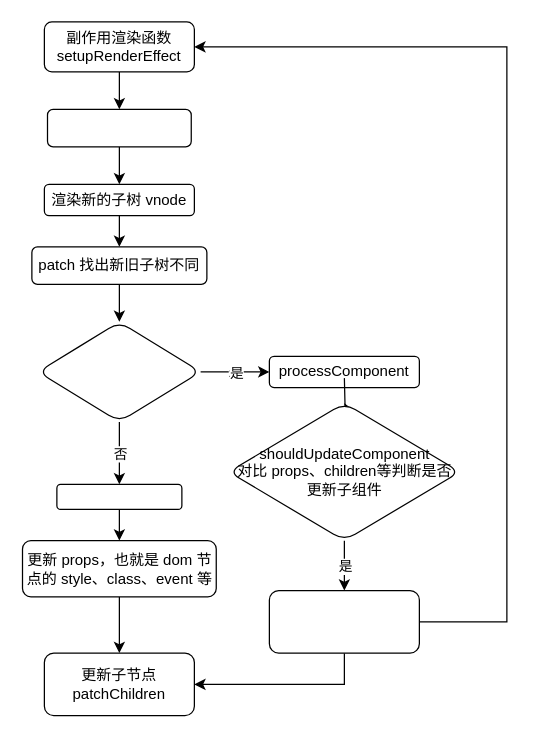
Some shapes in this 539 by 738 pixel diagram are drawn without their labels. The centre of each missing label's shape, as x and y in pixels:
"processElement" belongs at pixel 119 496.
"是否为组件 VNode？" belongs at pixel 119 371.
"更新组件vnode节点" belongs at pixel 118 127.
"调用子组件副作用渲染函数instance.update" belongs at pixel 343 621.
